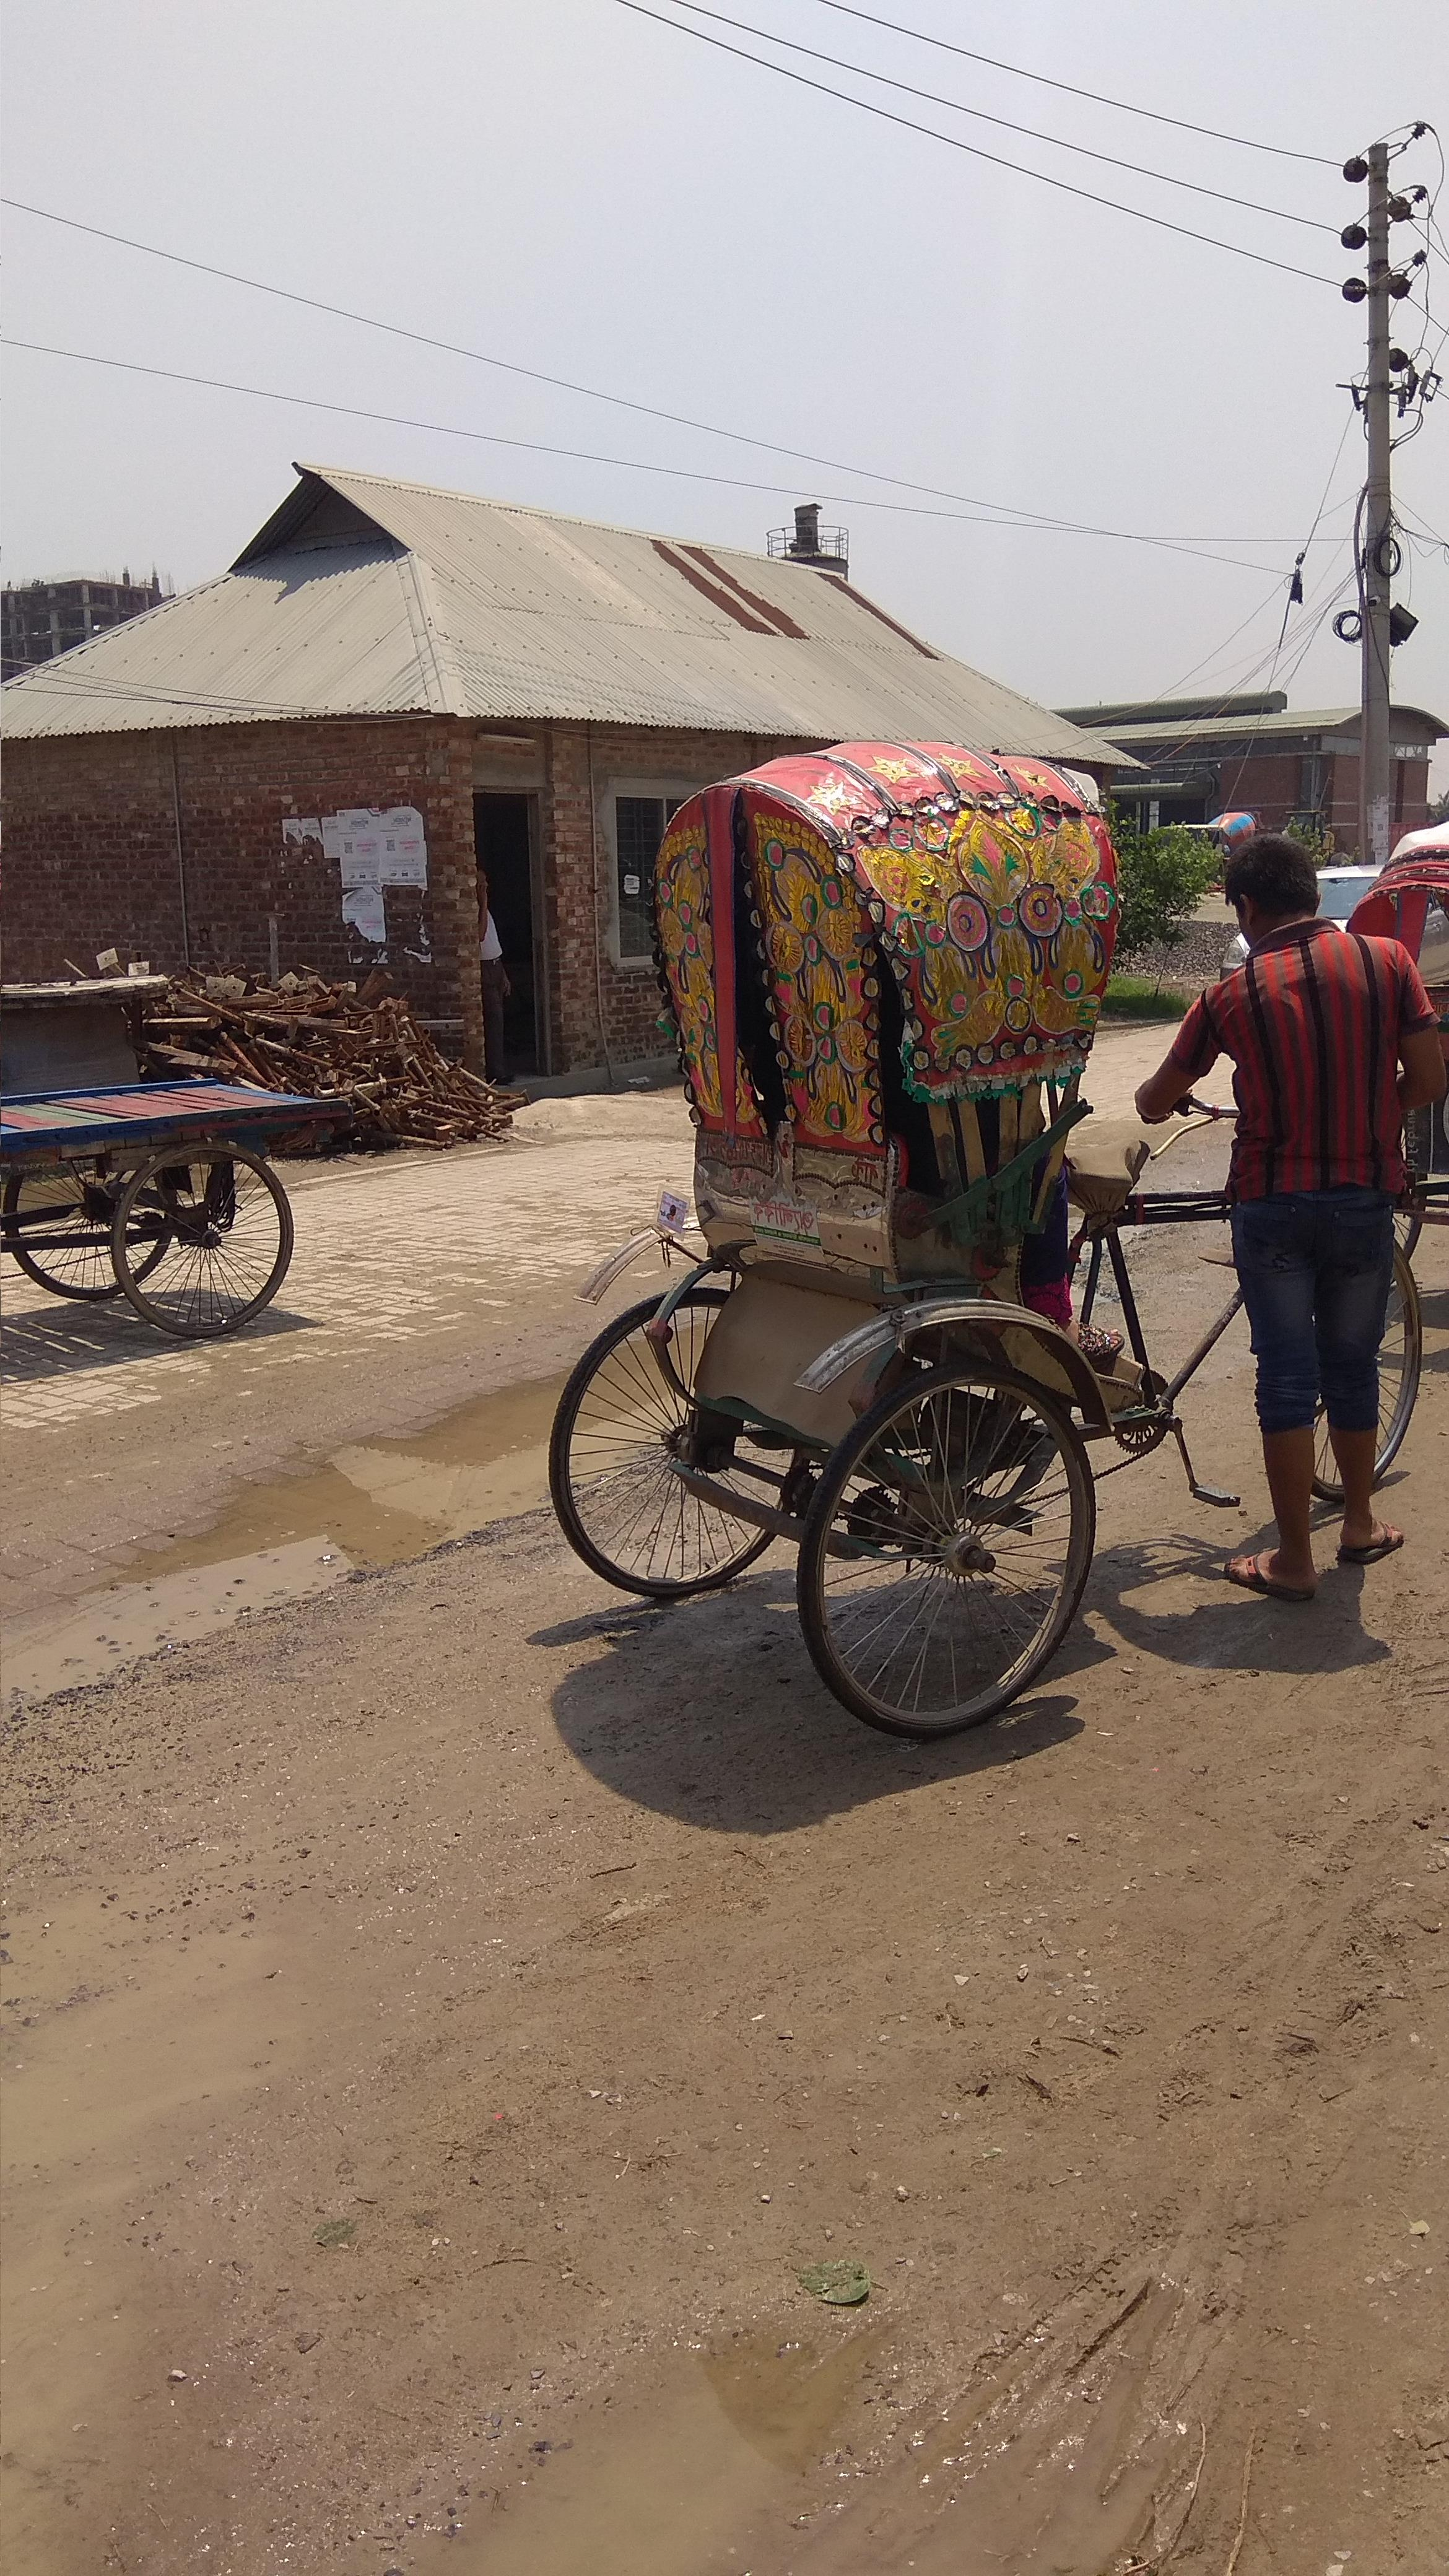Rickshaw: (564, 722, 1421, 1737)
